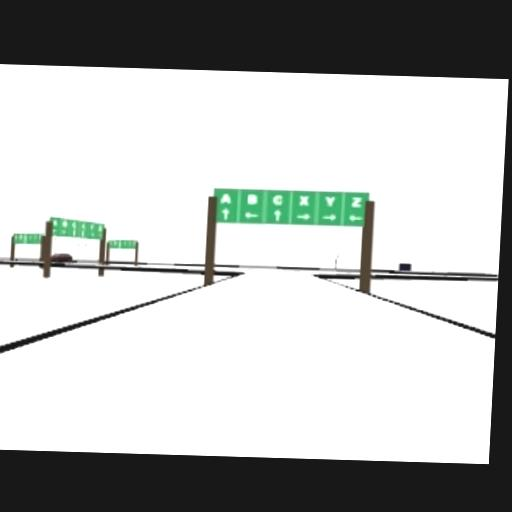A: (220, 193, 232, 203), (325, 195, 335, 205)
B: (247, 193, 257, 205)
C: (272, 194, 284, 205)
Left: (348, 214, 363, 222), (244, 210, 259, 217)
Right: (295, 212, 311, 221), (322, 213, 336, 221)
Straight: (273, 208, 282, 221), (221, 207, 230, 219)
X: (300, 194, 310, 204)
Z: (351, 196, 363, 208)
